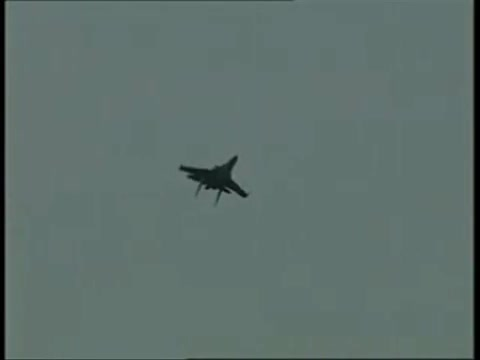aeroplane: (176, 154, 253, 208)
